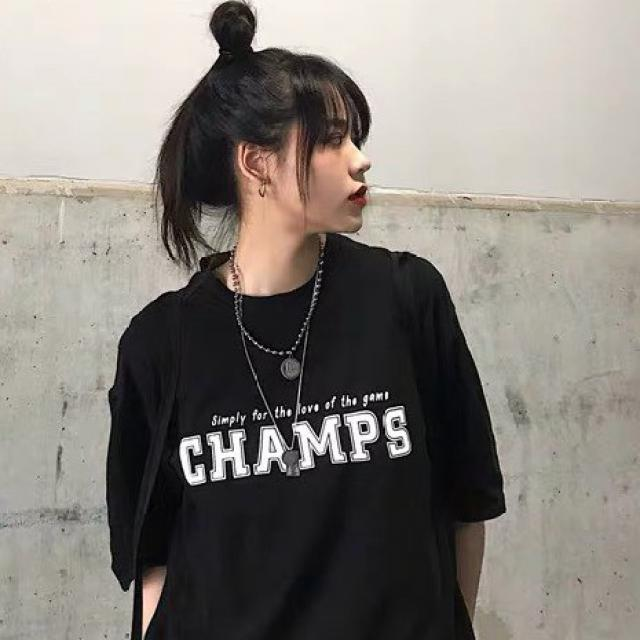Shirt: (99, 228, 516, 638)
